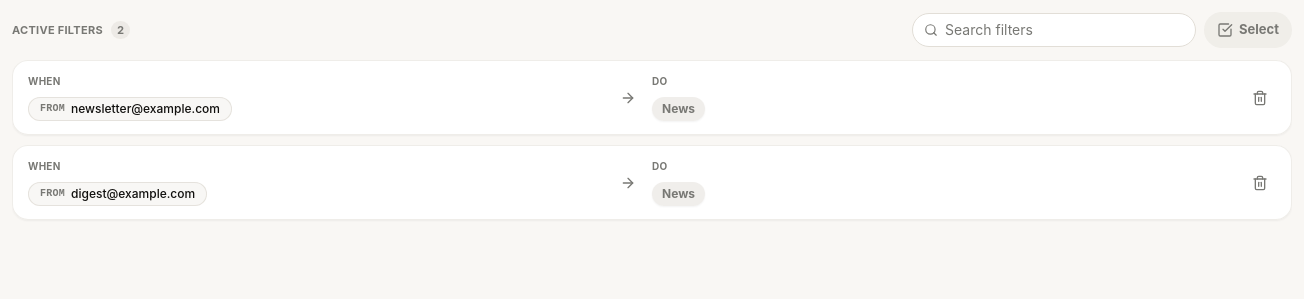
Test: entering and leaving select mode › the rows are plain until the toggle is pressed
Click the button with aria-label "Enter select mode" at [1248, 30], box [1204, 12, 1292, 48]
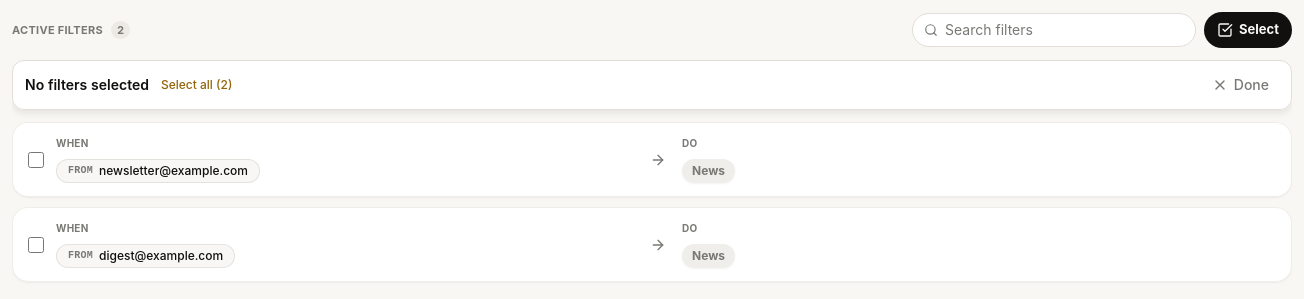
Check: the element named "Filter selection" is shown, box [12, 60, 1292, 110]
Check: the number of checkboxes named "Select filter" is 2, box [28, 152, 44, 168]; [28, 236, 44, 252]
